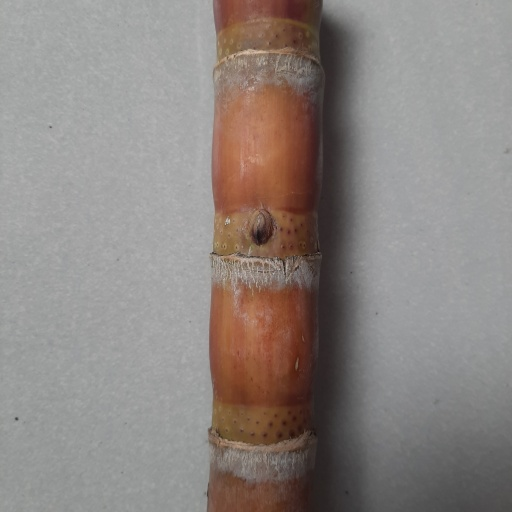Bud: (249, 209, 271, 246)
